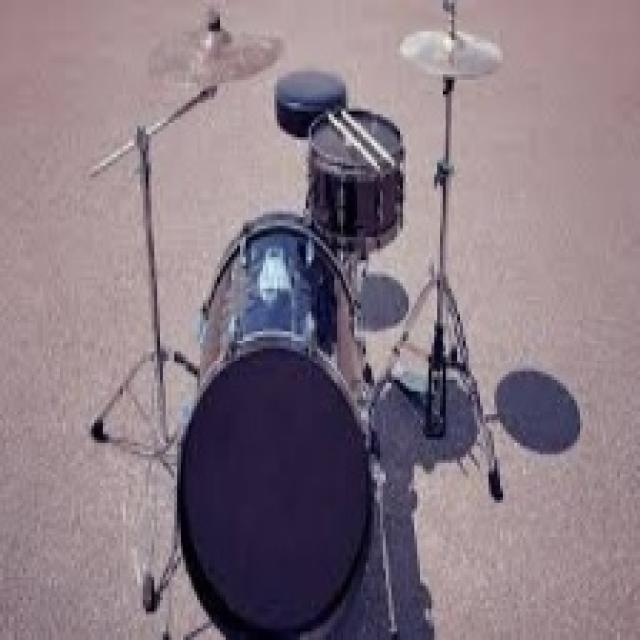drums: (77, 1, 511, 640)
